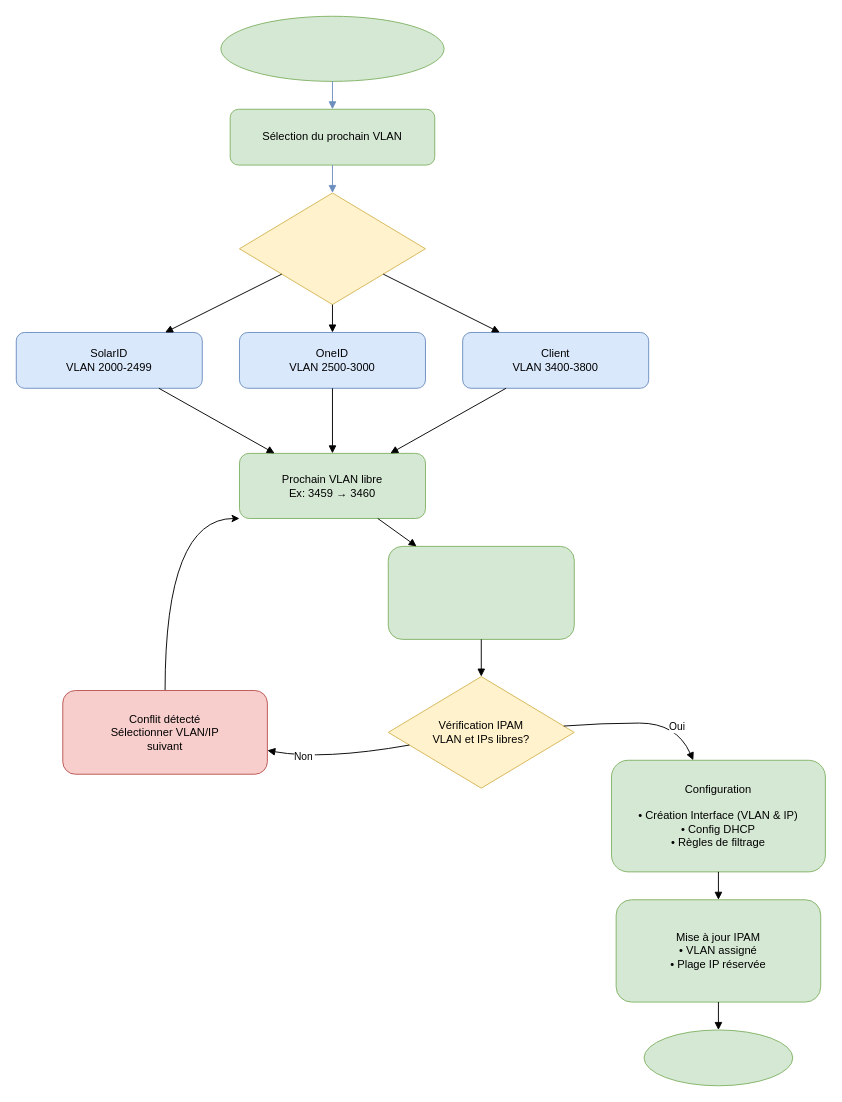
Some shapes in this 842 by 1102 pixel diagram are drawn without their labels. The centre of each missing label's shape, as x and y in pixels:
Attribution IP séquentielle Ex: 192.168.115.64/30 → 192.168.115.68/30: (x=480, y=592)
Demande création VLAN Client/OneID/SolarID: (x=332, y=48)
Type de demande?: (x=332, y=248)
VLAN opérationnel: (x=718, y=1057)
